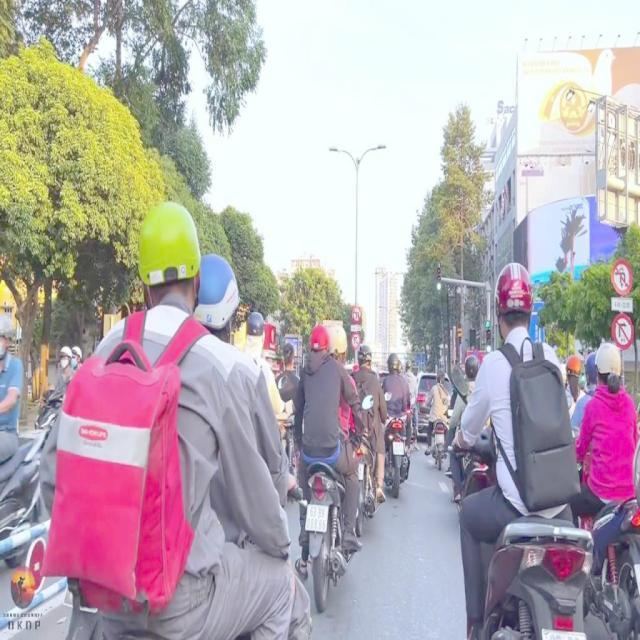123b-cam-re-phai: (610, 312, 634, 350), (350, 334, 360, 350)
124c-cam-re-trai-va-cam-quay-dau-xe: (610, 259, 634, 295), (350, 305, 362, 323)
